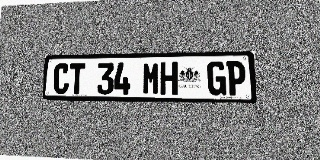3: (97, 63, 114, 94)
4: (114, 62, 131, 95)
C: (53, 63, 70, 94)
G: (207, 61, 226, 95)
H: (160, 62, 178, 95)
M: (142, 62, 160, 95)
P: (226, 61, 246, 95)
T: (69, 63, 85, 94)
